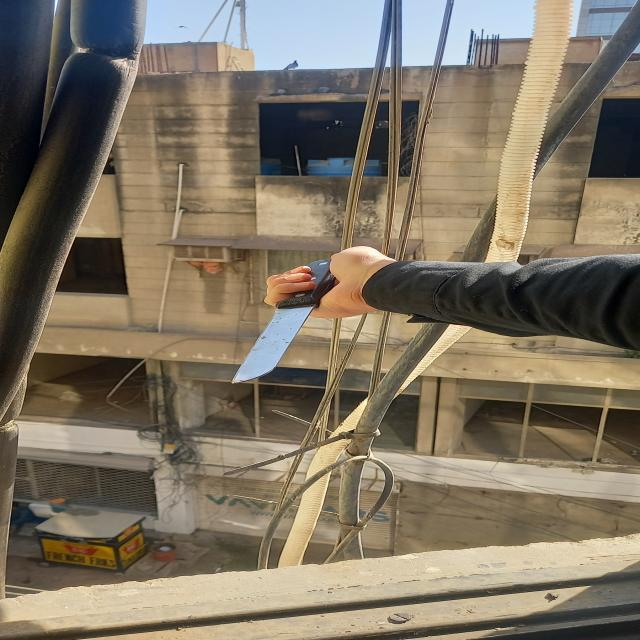knife: (228, 235, 338, 399)
